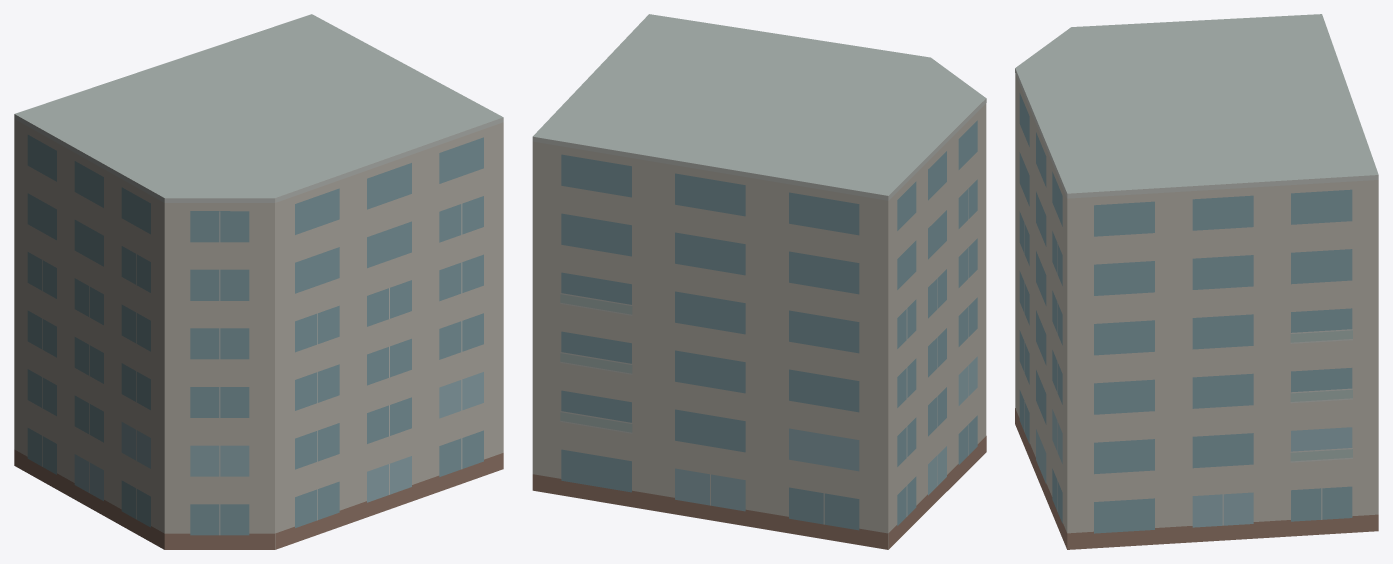
Rendered from survey-upis-32915875.glb.
3 views of the same model, side by side, from view 1: azimuth 30°, elevation 25°; view 2: azimuth 150°, elevation 25°; view 3: azimuth 270°, elevation 25° (orthographic).
Visible parts, largest first — view 1: survey-upis-32915875.tmp; view 2: survey-upis-32915875.tmp; view 3: survey-upis-32915875.tmp.
Part boxes in pixels (<box>): survey-upis-32915875.tmp: <box>14,14,503,549</box>; survey-upis-32915875.tmp: <box>532,14,986,549</box>; survey-upis-32915875.tmp: <box>1015,14,1378,549</box>.
Size of the model in its own units: 19.05 by 17.6 by 16.29.
